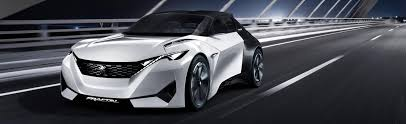car: (48, 5, 288, 121)
